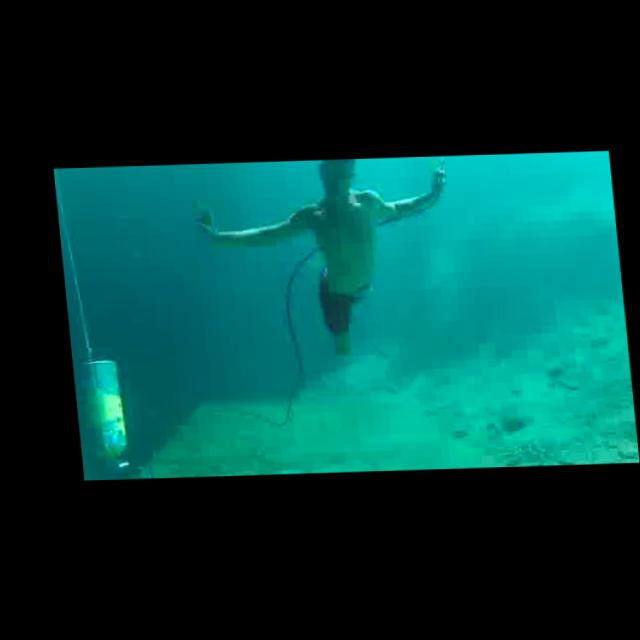human: (180, 157, 462, 371)
